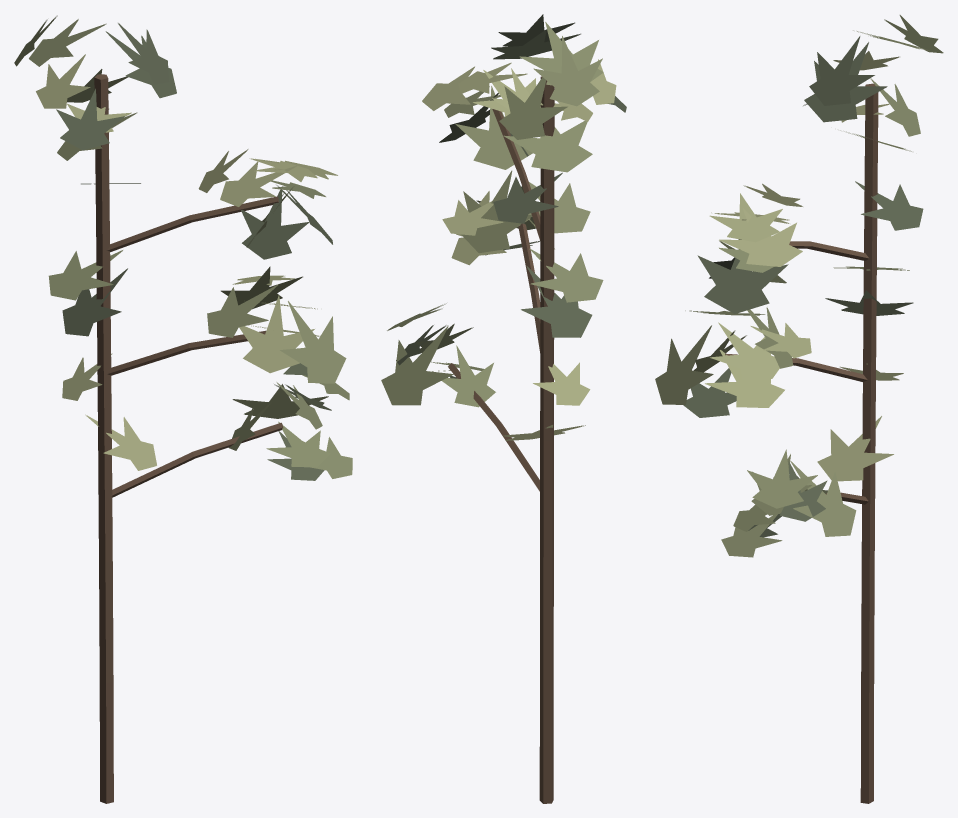
The model's file is sapling_green.fbx.
The picture shows the model from 3 angles, left to right: view 1: azimuth 30°, elevation 25°; view 2: azimuth 150°, elevation 25°; view 3: azimuth 270°, elevation 25°; orthographic projection.
Visible parts, largest first — view 1: sapling_green; view 2: sapling_green; view 3: sapling_green.
Boxes of the visible parts, x1,y1,x2,y2 form: sapling_green: [14, 15, 352, 803]; sapling_green: [381, 14, 626, 803]; sapling_green: [655, 15, 943, 803].
Bounding box in the file's own units: 0.4666 × 0.4405 × 1.3.
